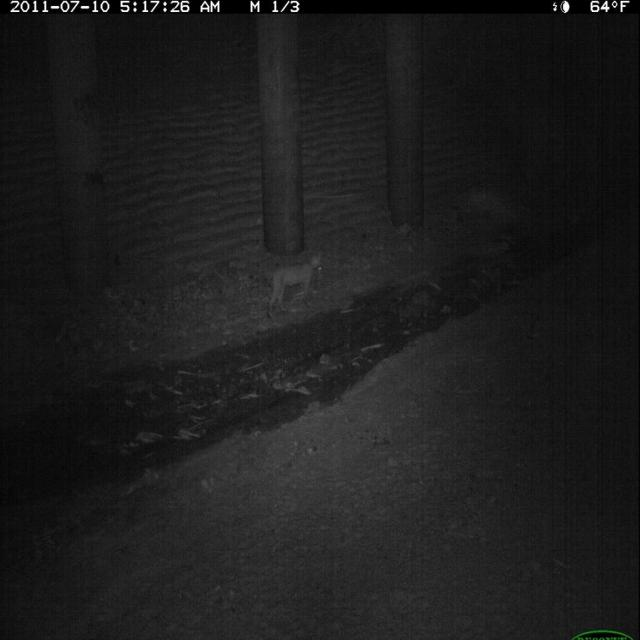bobcat: (264, 244, 329, 326)
